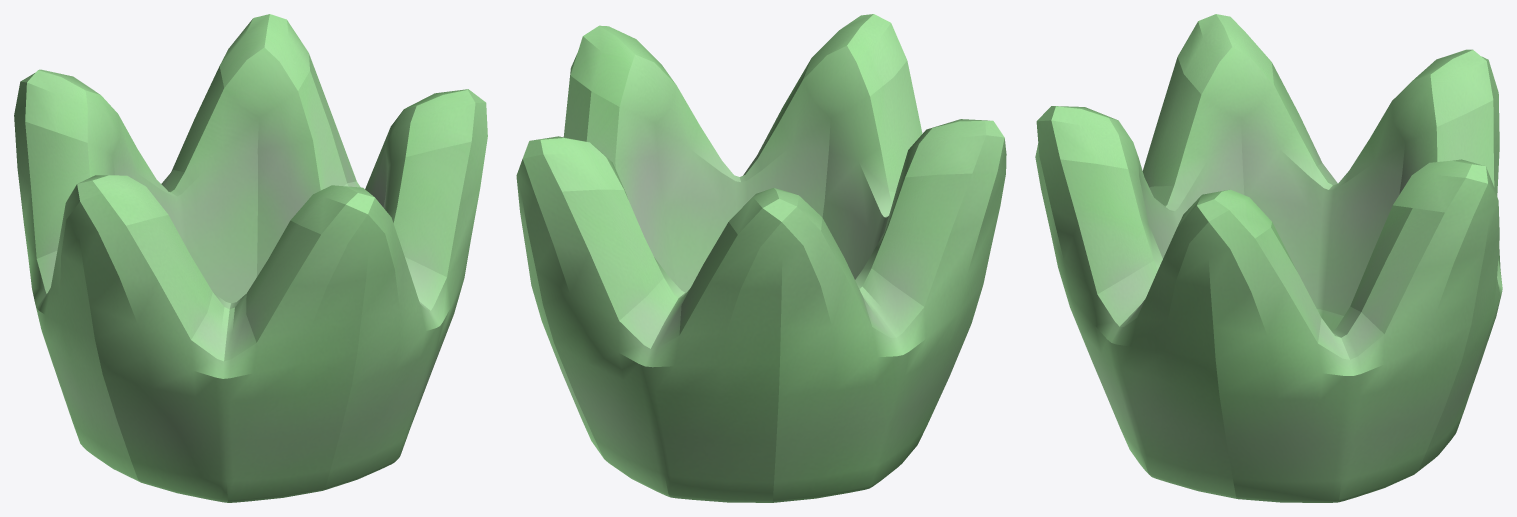
File: MAMAMOO_01.glb
3 views of the same model, side by side, from view 1: azimuth 30°, elevation 25°; view 2: azimuth 150°, elevation 25°; view 3: azimuth 270°, elevation 25° (orthographic). The views are drawn at different scales.
Bounding box in the file's own units: 0.0636 × 0.0479 × 0.0615.
1 material, 1 textured.
